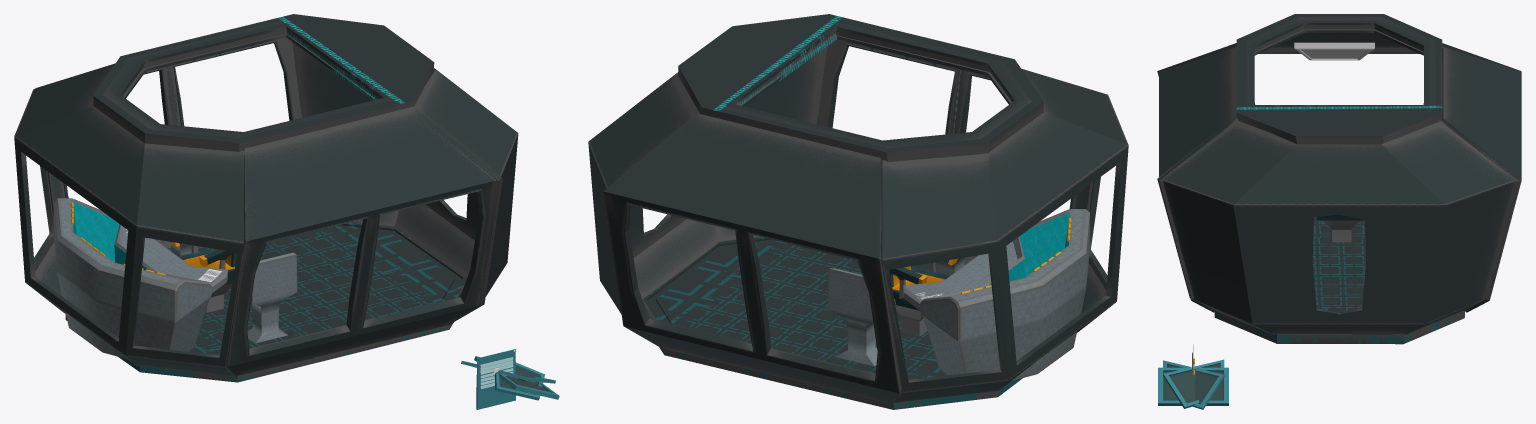
File: MSPZ_3_.fbx
3 renders of one model, left to right at view 1: azimuth 30°, elevation 25°; view 2: azimuth 150°, elevation 25°; view 3: azimuth 270°, elevation 25°, orthographic. The views are drawn at different scales.
Visible parts, largest first — view 1: polySurface26, Front_Wall, Ceiling, Floor, polySurface43, Rear_wall, polySurface39, pasted__pCube4, Chair2, panel, Hatch, Left_Console_Door (+1 smaller); view 2: polySurface39, Front_Wall, Ceiling, Floor, polySurface43, Rear_wall, polySurface26, power_grid, Chair2; view 3: Rear_wall, Ceiling, polySurface39, polySurface26, Floor, Front_Wall, pCube6, Middle_Console_Door, Right_Console_Door, Left_Console_Door, Chair2.
Part boxes in pixels (x1=…): polySurface26: x1=226, y1=106, x2=502, y2=376; Front_Wall: x1=14, y1=65, x2=245, y2=376; Ceiling: x1=93, y1=14, x2=434, y2=151; Floor: x1=65, y1=222, x2=466, y2=382; polySurface43: x1=53, y1=198, x2=227, y2=368; Rear_wall: x1=292, y1=42, x2=518, y2=325; polySurface39: x1=35, y1=37, x2=301, y2=248; pasted__pCube4: x1=247, y1=252, x2=297, y2=343; Chair2: x1=171, y1=242, x2=237, y2=312; panel: x1=477, y1=349, x2=515, y2=392; Hatch: x1=476, y1=366, x2=515, y2=409; Left_Console_Door: x1=494, y1=362, x2=544, y2=400; polySurface39: x1=603, y1=114, x2=901, y2=403; Front_Wall: x1=881, y1=68, x2=1128, y2=402; Ceiling: x1=678, y1=14, x2=1043, y2=161; Floor: x1=643, y1=236, x2=1022, y2=409; polySurface43: x1=903, y1=209, x2=1089, y2=381; Rear_wall: x1=588, y1=46, x2=827, y2=319; polySurface26: x1=817, y1=39, x2=1092, y2=264; power_grid: x1=827, y1=268, x2=895, y2=366; Chair2: x1=889, y1=258, x2=957, y2=335; Rear_wall: x1=1157, y1=120, x2=1516, y2=334; Ceiling: x1=1236, y1=14, x2=1442, y2=144; polySurface39: x1=1441, y1=47, x2=1521, y2=312; polySurface26: x1=1159, y1=47, x2=1238, y2=312; Floor: x1=1214, y1=217, x2=1464, y2=344; Front_Wall: x1=1157, y1=33, x2=1521, y2=104; pCube6: x1=1294, y1=42, x2=1374, y2=60; Middle_Console_Door: x1=1158, y1=367, x2=1228, y2=405; Right_Console_Door: x1=1163, y1=359, x2=1224, y2=408; Left_Console_Door: x1=1163, y1=360, x2=1224, y2=409; Chair2: x1=1317, y1=214, x2=1364, y2=242.
Bounding box in the file's own units: 4912 × 3592 × 4574.
